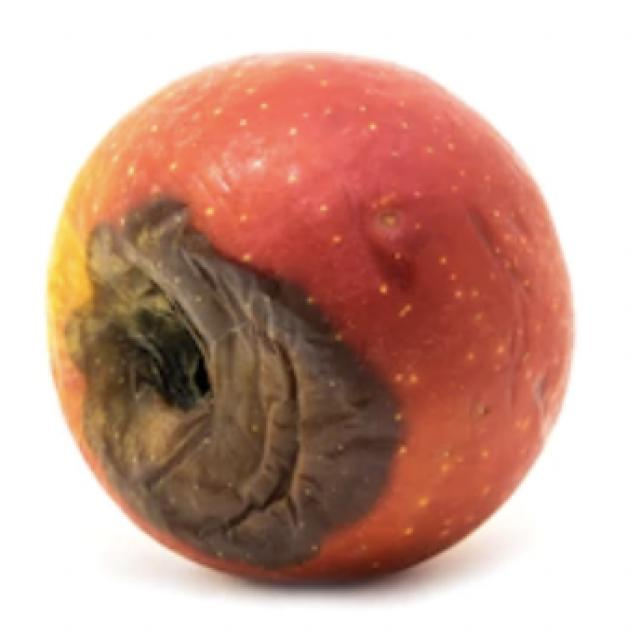rotten_apple: (46, 52, 574, 589)
